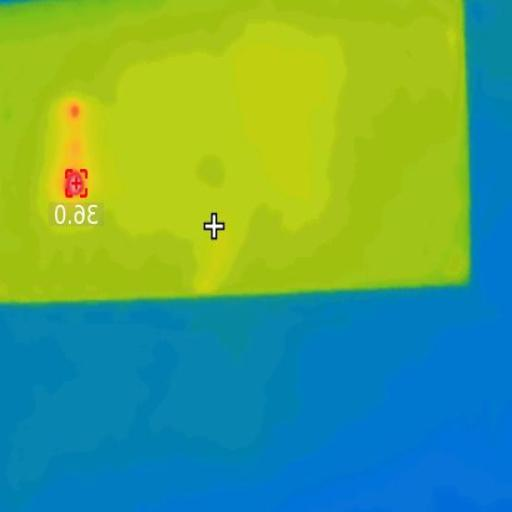hotspot: (64, 166, 84, 197), (72, 100, 82, 116)
